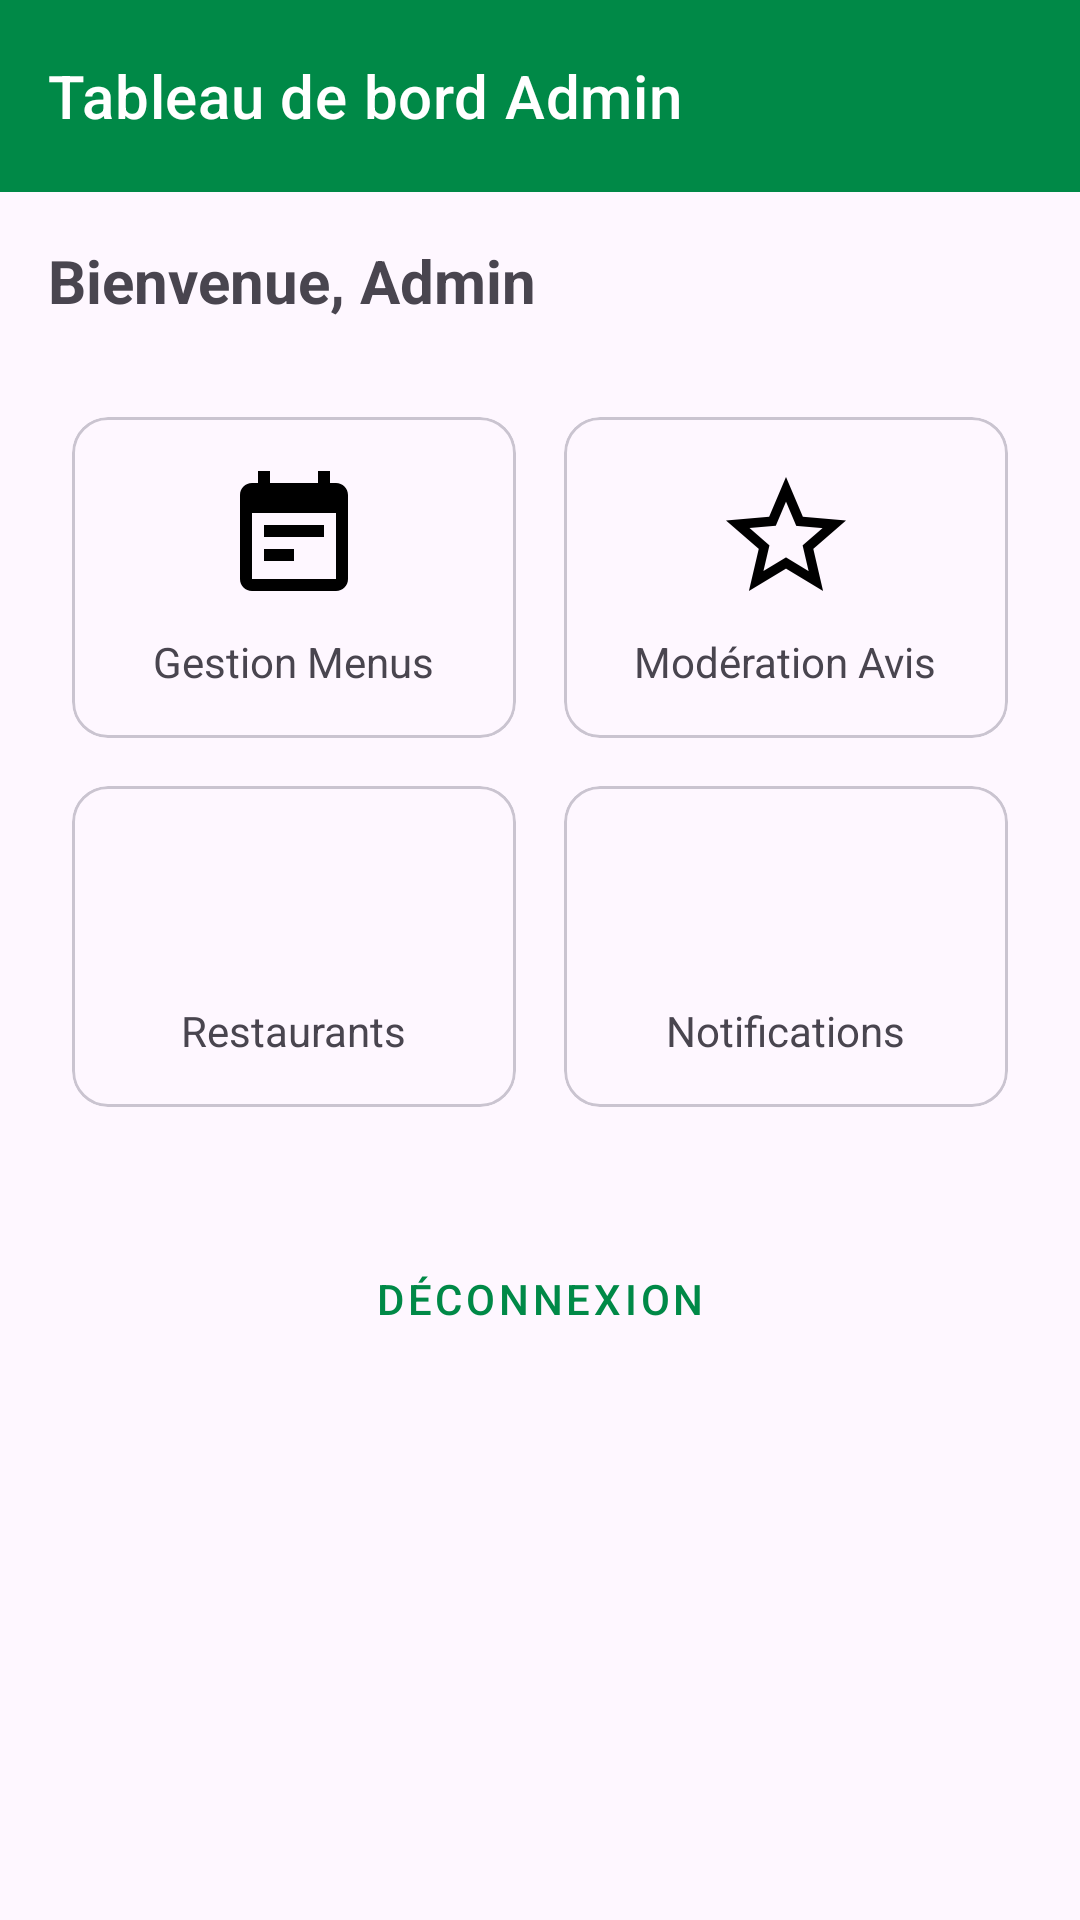

Icon click points for this 1080*1920 phone screenshot, format (x=x, y=y):
star: (x=786, y=534)
